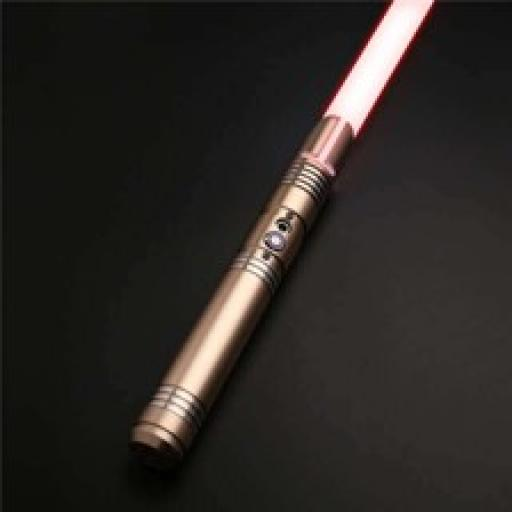lightsaber: (107, 0, 434, 466)
